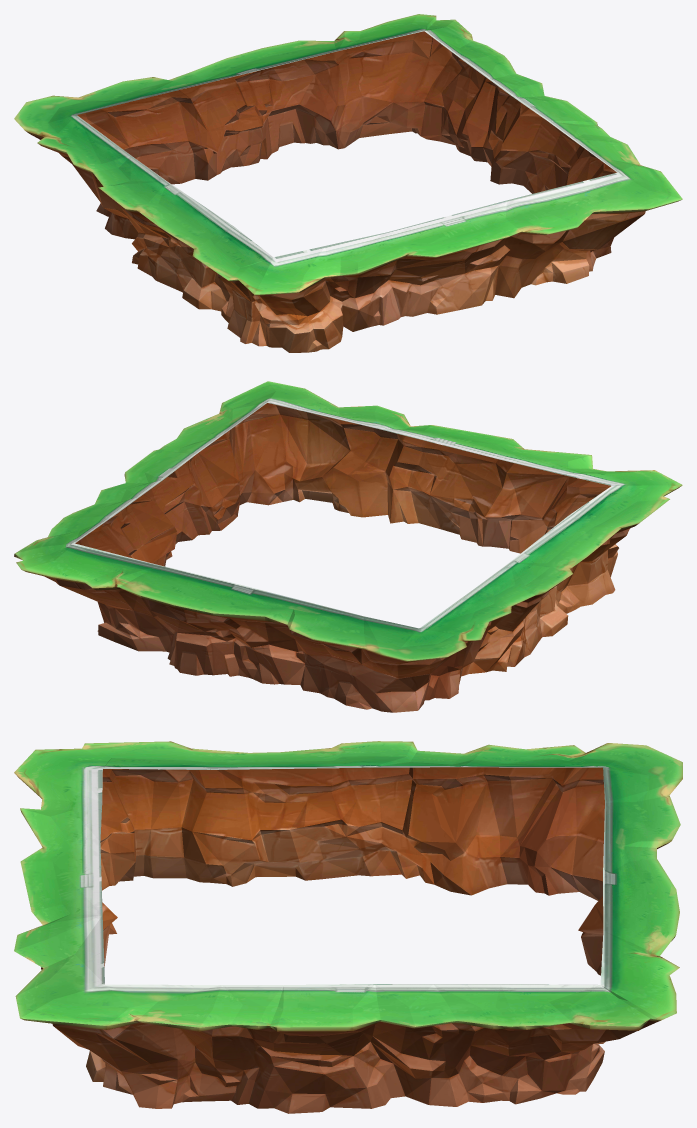
Rendered from Cliff.obj.
3 renders of one model, top to bottom at view 1: azimuth 30°, elevation 25°; view 2: azimuth 150°, elevation 25°; view 3: azimuth 270°, elevation 25°, orthographic. The views are drawn at different scales.
Parts seen in each view (by area): view 1: Cliff.003; view 2: Cliff.003; view 3: Cliff.003.
Part boxes in pixels (box(x1,y1,x2,y2)): Cliff.003: box(14, 14, 682, 352); Cliff.003: box(14, 381, 682, 712); Cliff.003: box(14, 741, 682, 1113).
Size of the model in its own units: 16.35 by 3.21 by 16.49.
Materials: 1 (1 with a texture image).
